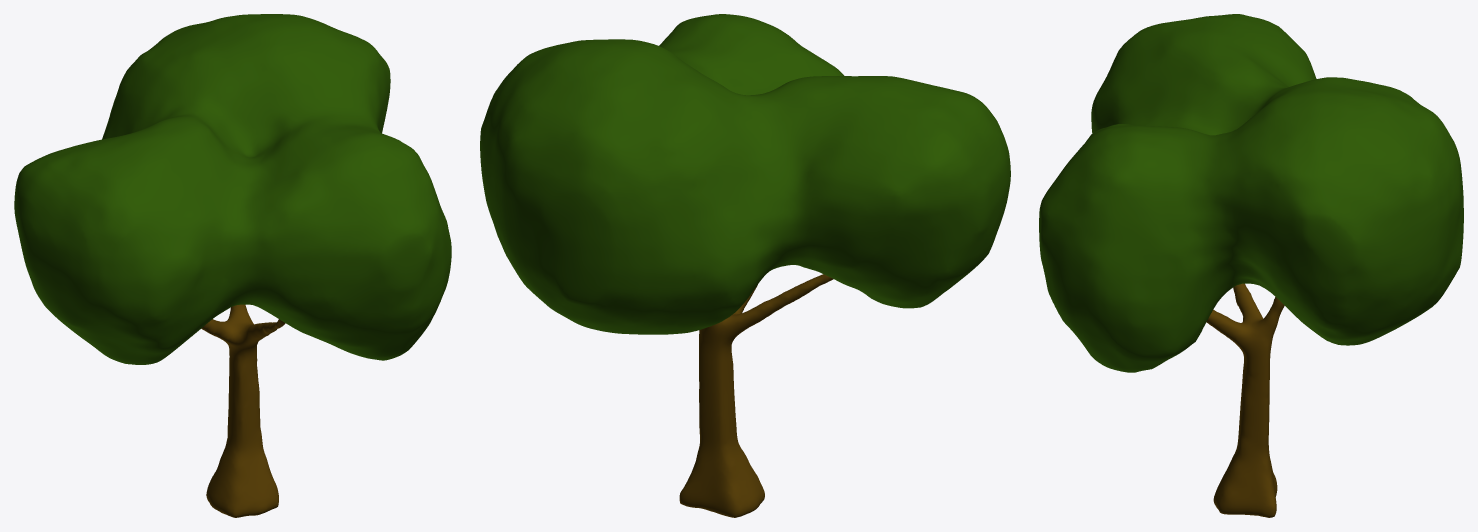
Rendered from Tree2.glb.
3 views of the same model, side by side, from view 1: azimuth 30°, elevation 25°; view 2: azimuth 150°, elevation 25°; view 3: azimuth 270°, elevation 25° (orthographic). The views are drawn at different scales.
Parts seen in each view (by area): view 1: Tree_average_lush.003, Tree_average_lush; view 2: Tree_average_lush.003, Tree_average_lush; view 3: Tree_average_lush.003, Tree_average_lush.
Boxes of the visible parts, x1,y1,x2,y2 form: Tree_average_lush.003: [14, 14, 451, 364]; Tree_average_lush: [201, 304, 285, 517]; Tree_average_lush.003: [480, 14, 1010, 334]; Tree_average_lush: [679, 274, 833, 517]; Tree_average_lush.003: [1039, 14, 1463, 372]; Tree_average_lush: [1206, 283, 1284, 517].
Bounding box in the file's own units: 14.19 × 14.49 × 12.75.
